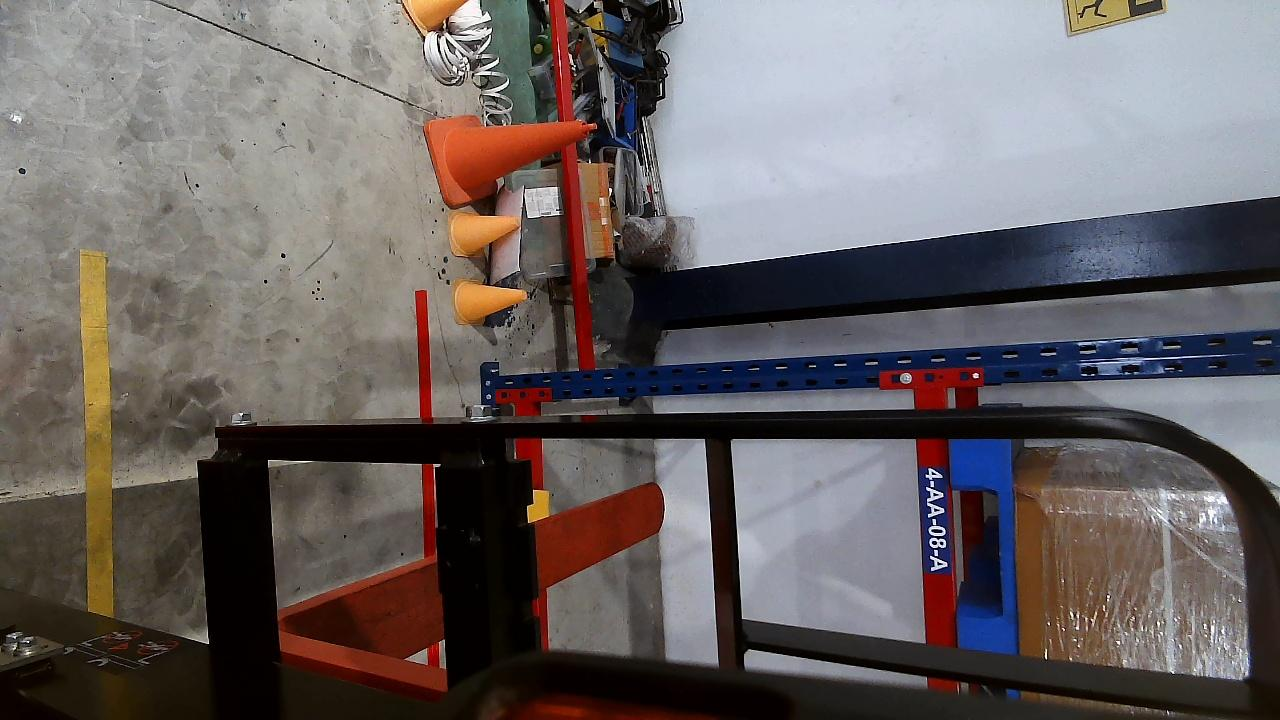h_rack: (908, 392, 961, 646)
red_line: (413, 289, 435, 419)
small_pallet: (947, 442, 1022, 653)
yellow_line: (80, 250, 113, 615)
